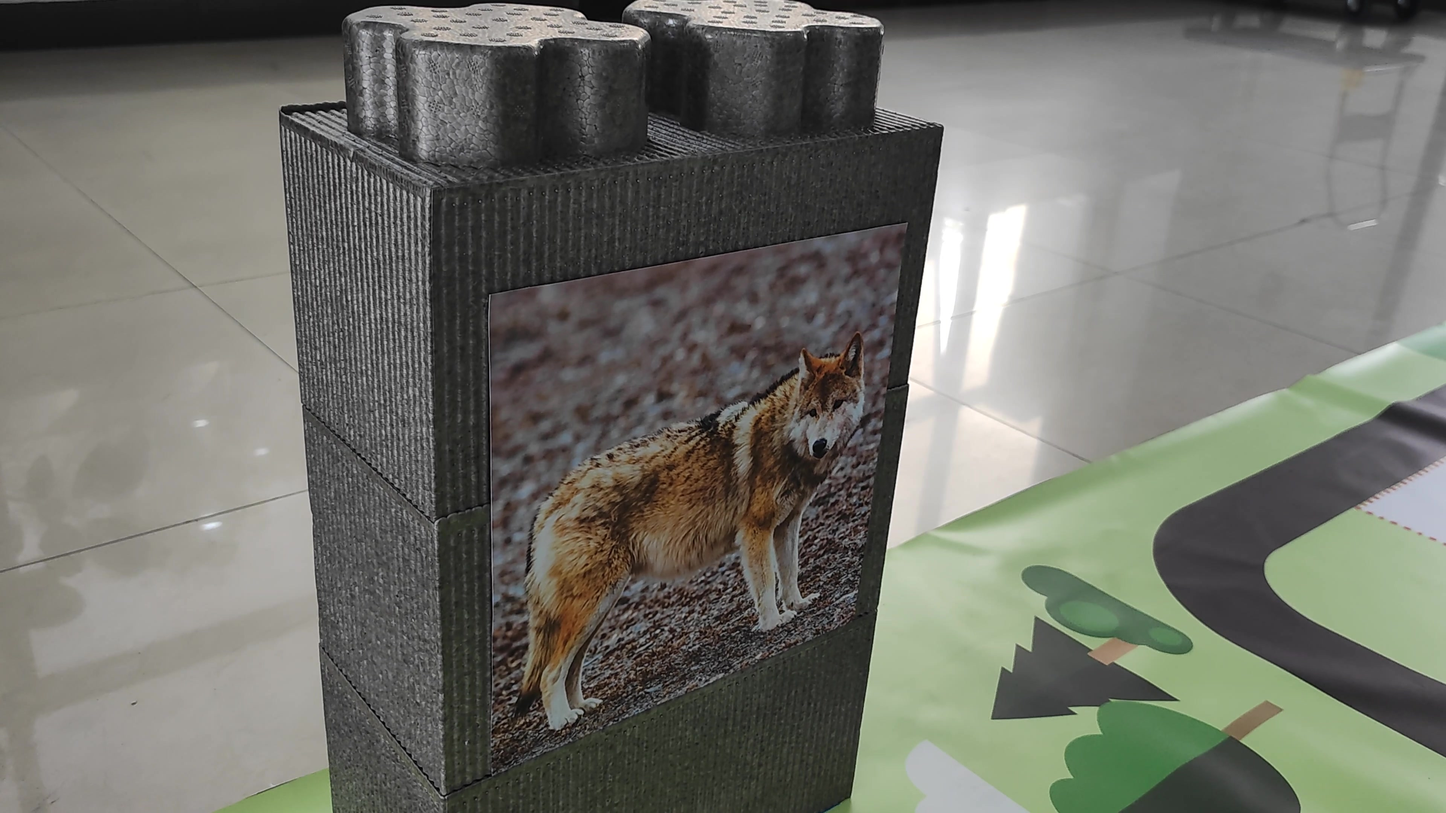wolf: (496, 277, 873, 707)
